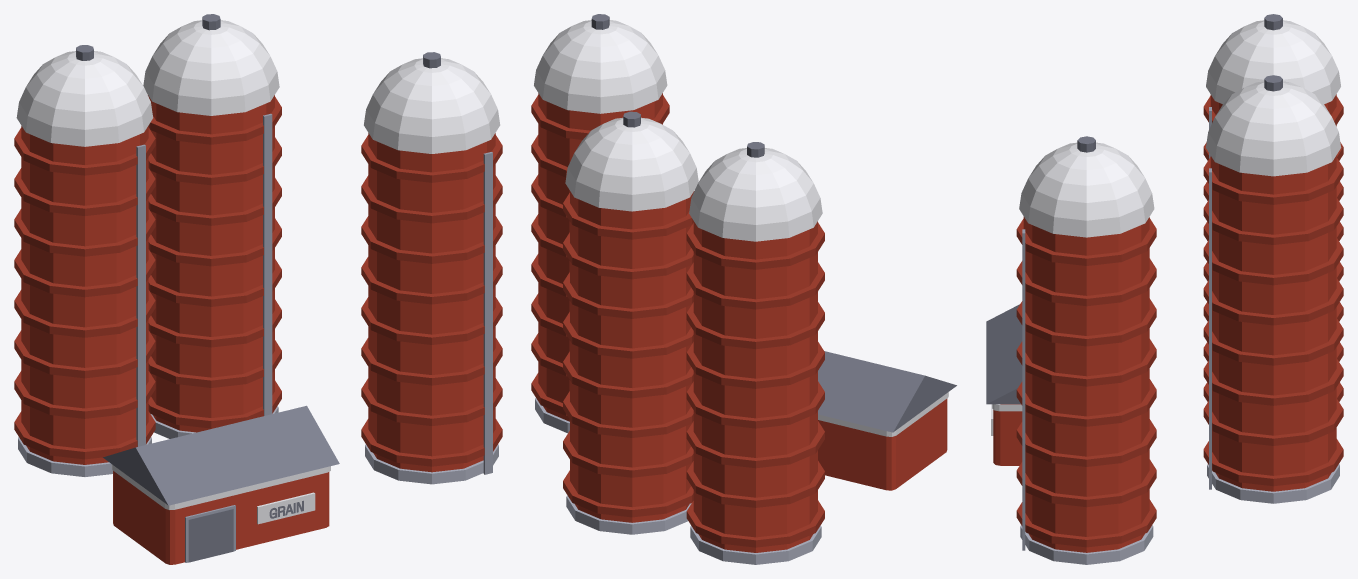
Rendered from silo-2x2-t8-tone-a.glb.
The picture shows the model from 3 angles, left to right: view 1: azimuth 30°, elevation 25°; view 2: azimuth 150°, elevation 25°; view 3: azimuth 270°, elevation 25°; orthographic projection. The views are drawn at different scales.
Visible parts, largest first — view 1: silo-2x2-t8-tone-a; view 2: silo-2x2-t8-tone-a; view 3: silo-2x2-t8-tone-a.
Boxes of the visible parts, left/top/right/bottom form: silo-2x2-t8-tone-a: left=14, top=14, right=502, bottom=564; silo-2x2-t8-tone-a: left=531, top=14, right=956, bottom=564; silo-2x2-t8-tone-a: left=986, top=14, right=1343, bottom=564.
Size of the model in its own units: 1.84 by 1.88 by 1.53.
Materials: 1 (1 with a texture image).
